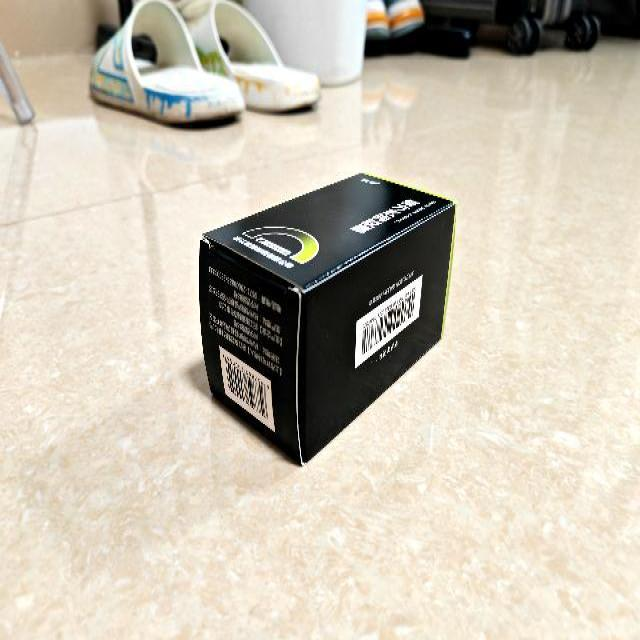box: (200, 170, 458, 465)
